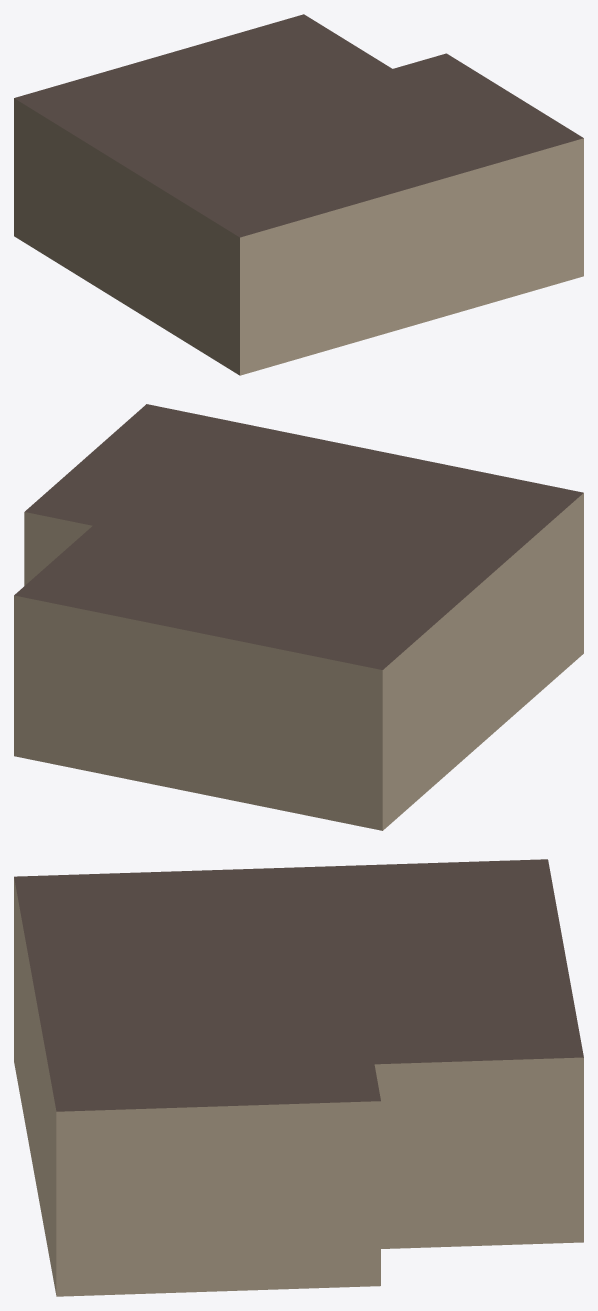
3 renders of one model, top to bottom at view 1: azimuth 30°, elevation 25°; view 2: azimuth 150°, elevation 25°; view 3: azimuth 270°, elevation 25°, orthographic. The views are drawn at different scales.
Visible parts, largest first — view 1: HP-w494405433; view 2: HP-w494405433; view 3: HP-w494405433.
Part boxes in pixels (x1,y1,x2,y2): HP-w494405433: [14, 14, 583, 375]; HP-w494405433: [14, 404, 583, 830]; HP-w494405433: [14, 859, 583, 1296].
Size of the model in its own units: 26.35 by 9 by 25.13.
